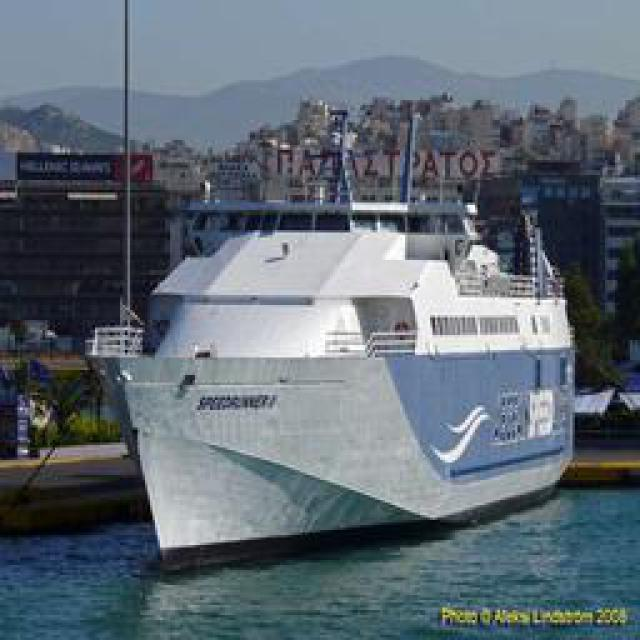Ship: (121, 136, 579, 561)
